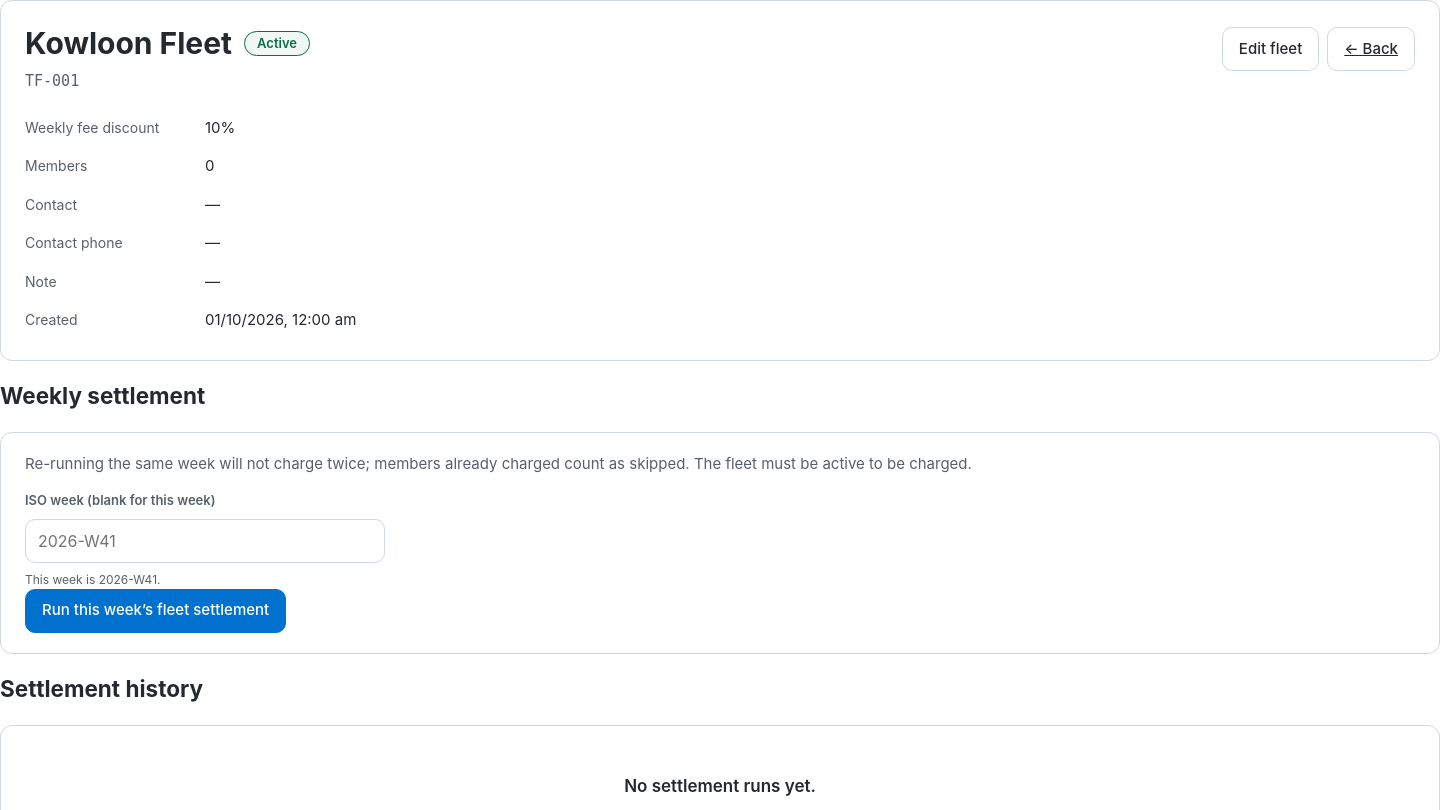
Scenario: the fleet settlement lever › asks for confirmation in an in-app danger modal, never window.confirm
Click the button "Run this week’s fleet settlement" at (156, 611), box [25,589,286,633]
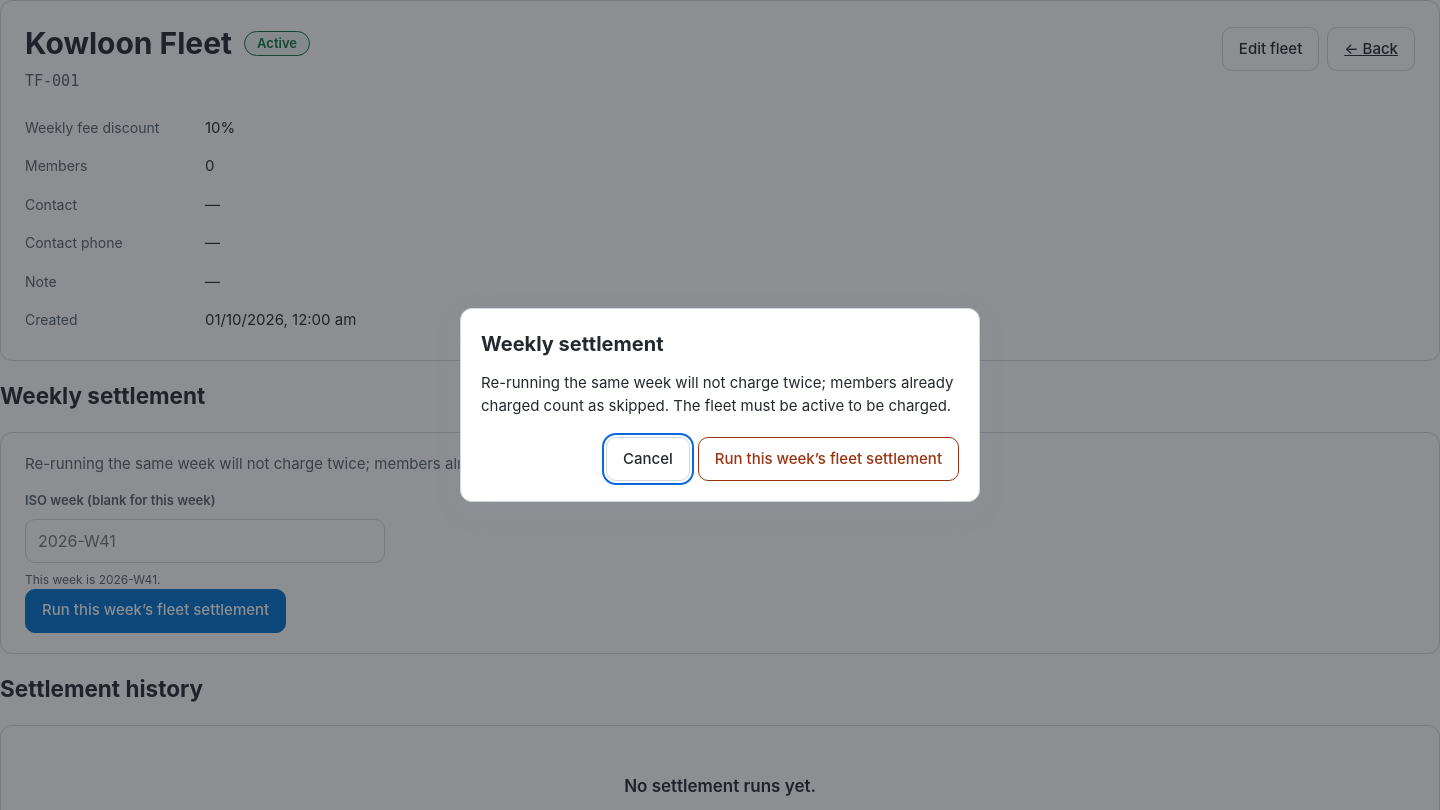
Check: the button with class "btn--danger" is shown, box [698,437,959,481]
